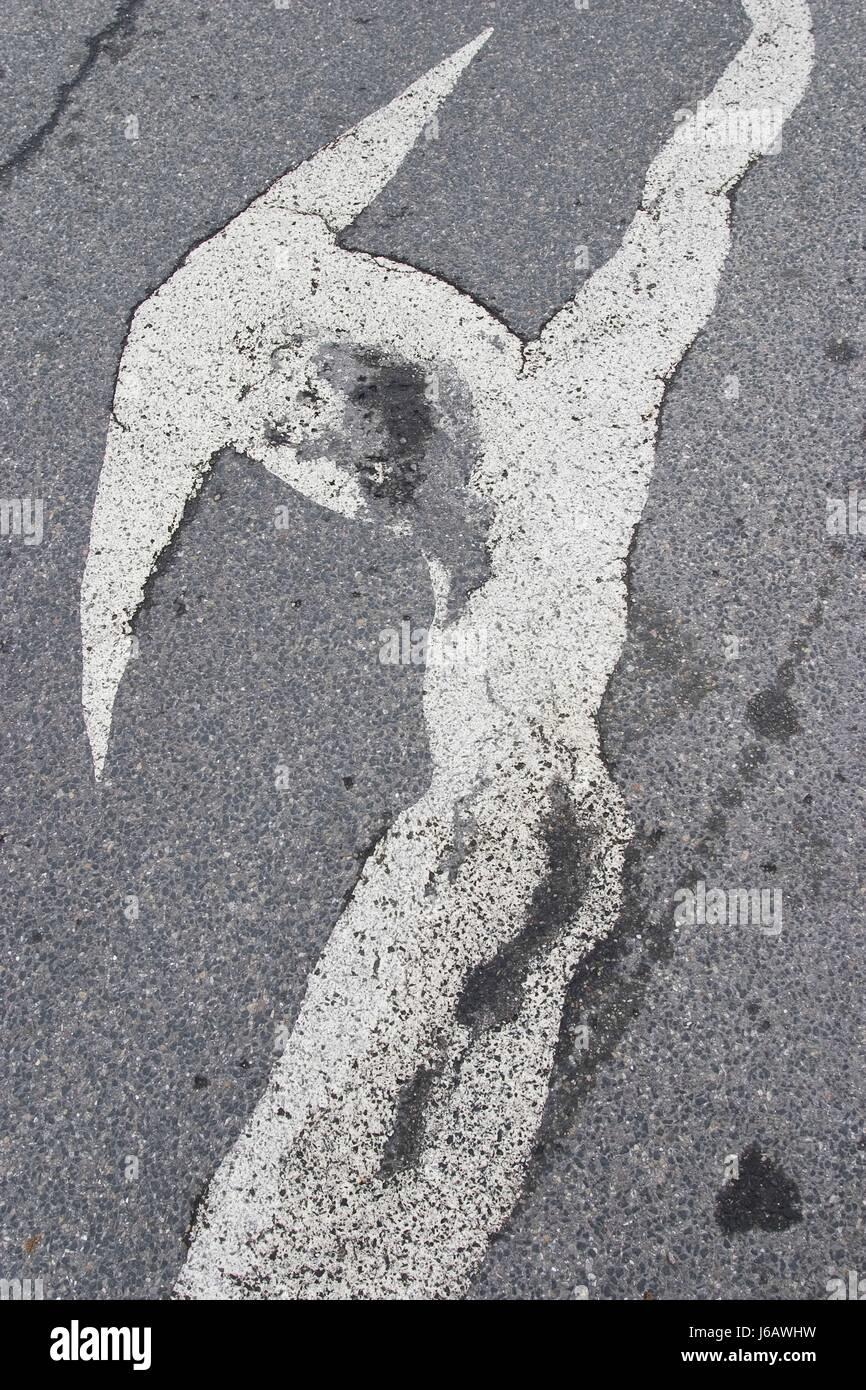faded_road_lines: (43, 0, 835, 1302)
